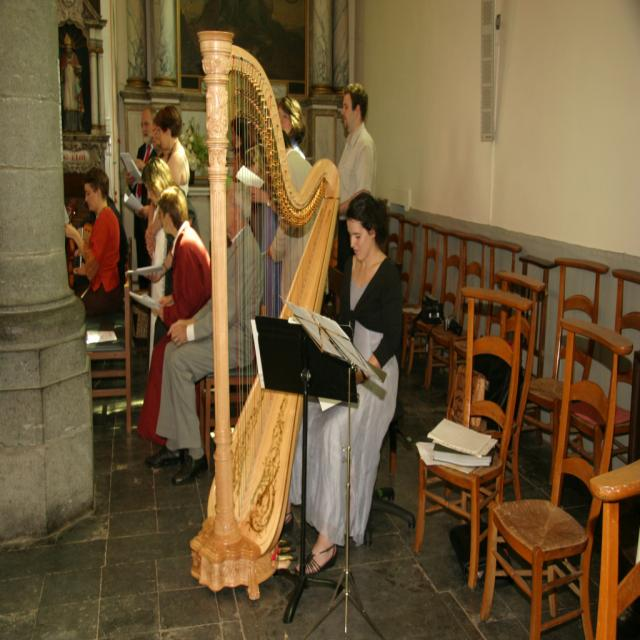harp: (184, 25, 342, 597)
